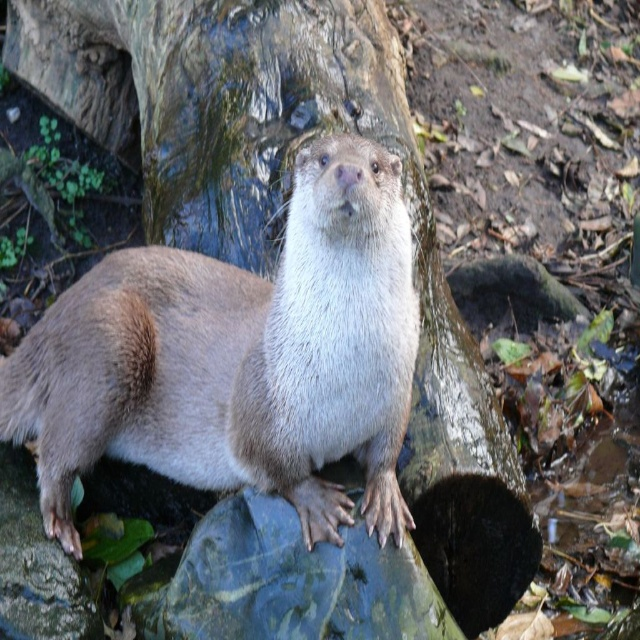Otter: (0, 129, 426, 561)
